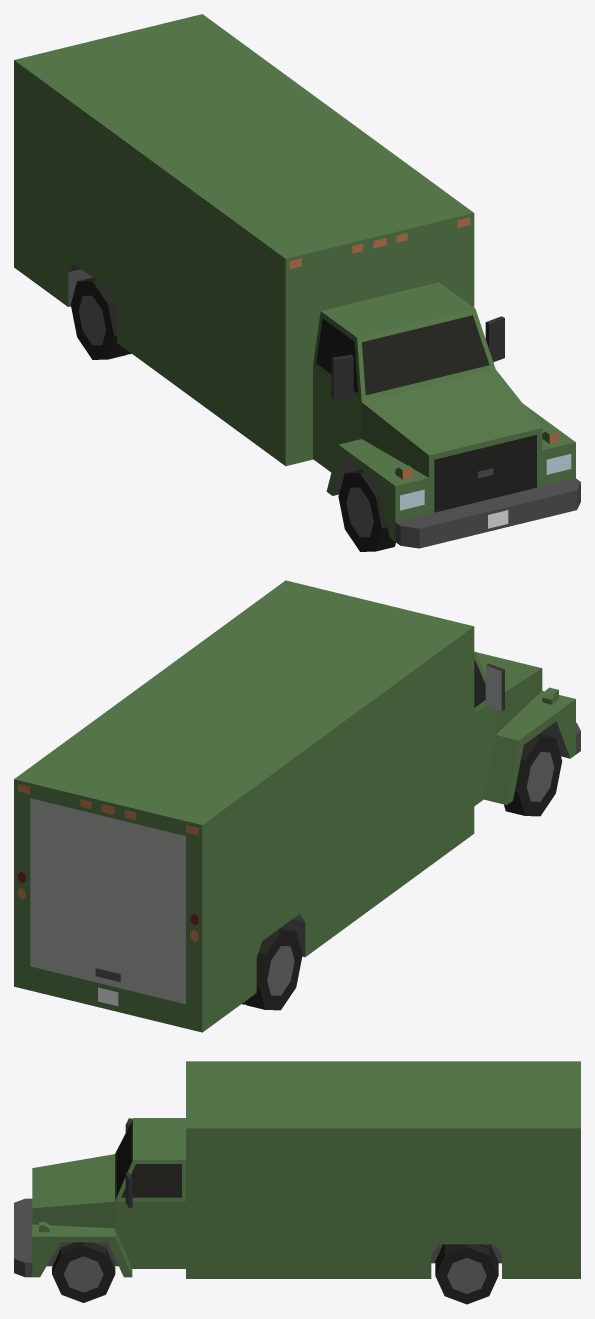
File: Veh_Truck_01_Green.obj
The picture shows the model from 3 angles, top to bottom: view 1: azimuth 30°, elevation 25°; view 2: azimuth 150°, elevation 25°; view 3: azimuth 270°, elevation 25°; orthographic projection. The views are drawn at different scales.
Bounding box in the file's own units: 1.35 × 1.66 × 4.85.
